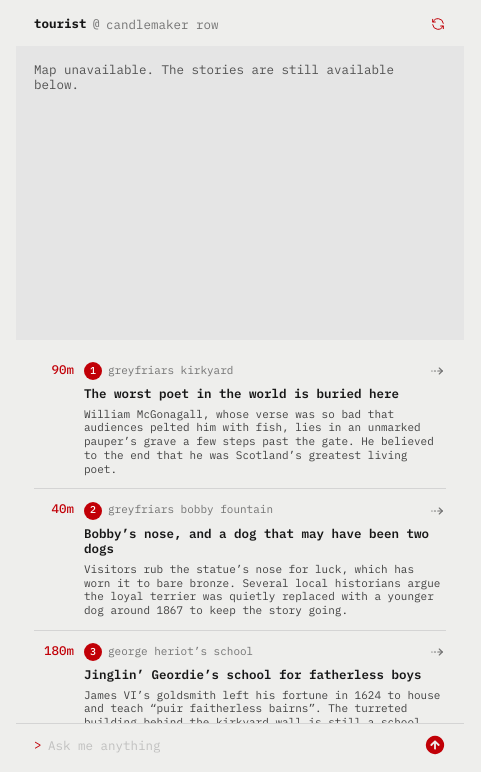
Test: saved reading › reopens an index conversation below saved stories after an offline reload
Later steps or results of the test are not shown.
Type "Tell me about this area" into the field with placeholder "Ask me anything".
click(233, 745); type("Tell me about this area")  # box [48, 737, 418, 753]
Then press Enter
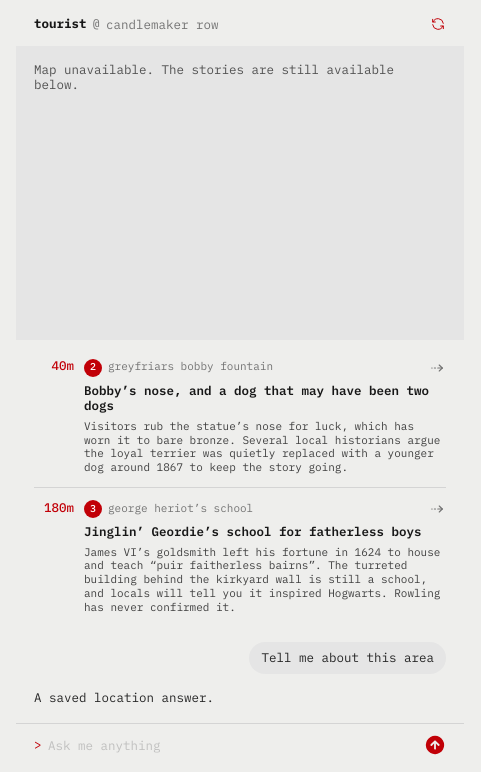
expect the text "A saved location answer." is shown: met, box [34, 689, 214, 705]
